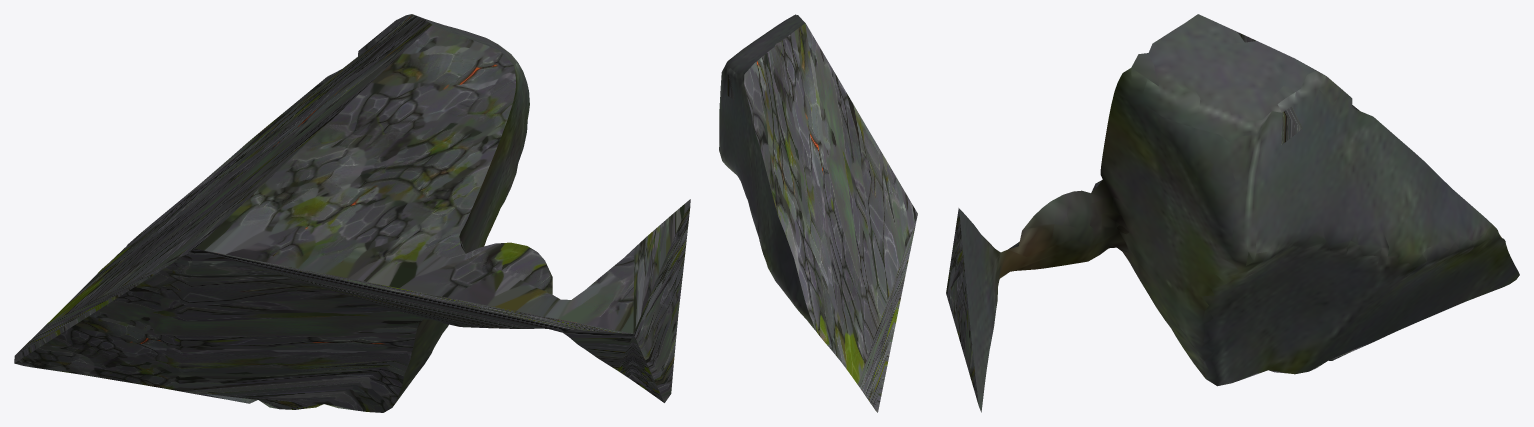
File: Frag_13.gltf
3 renders of one model, left to right at view 1: azimuth 30°, elevation 25°; view 2: azimuth 150°, elevation 25°; view 3: azimuth 270°, elevation 25°, orthographic. The views are drawn at different scales.
Parts seen in each view (by area): view 1: Frag_13; view 2: Frag_13; view 3: Frag_13.
Boxes of the visible parts, box(x1,y1,x2,y2) form: Frag_13: box(14, 14, 690, 412); Frag_13: box(719, 14, 917, 412); Frag_13: box(946, 14, 1519, 412).
Size of the model in its own units: 0.2561 by 0.2433 by 0.3111.
Materials: 1 (1 with a texture image).
